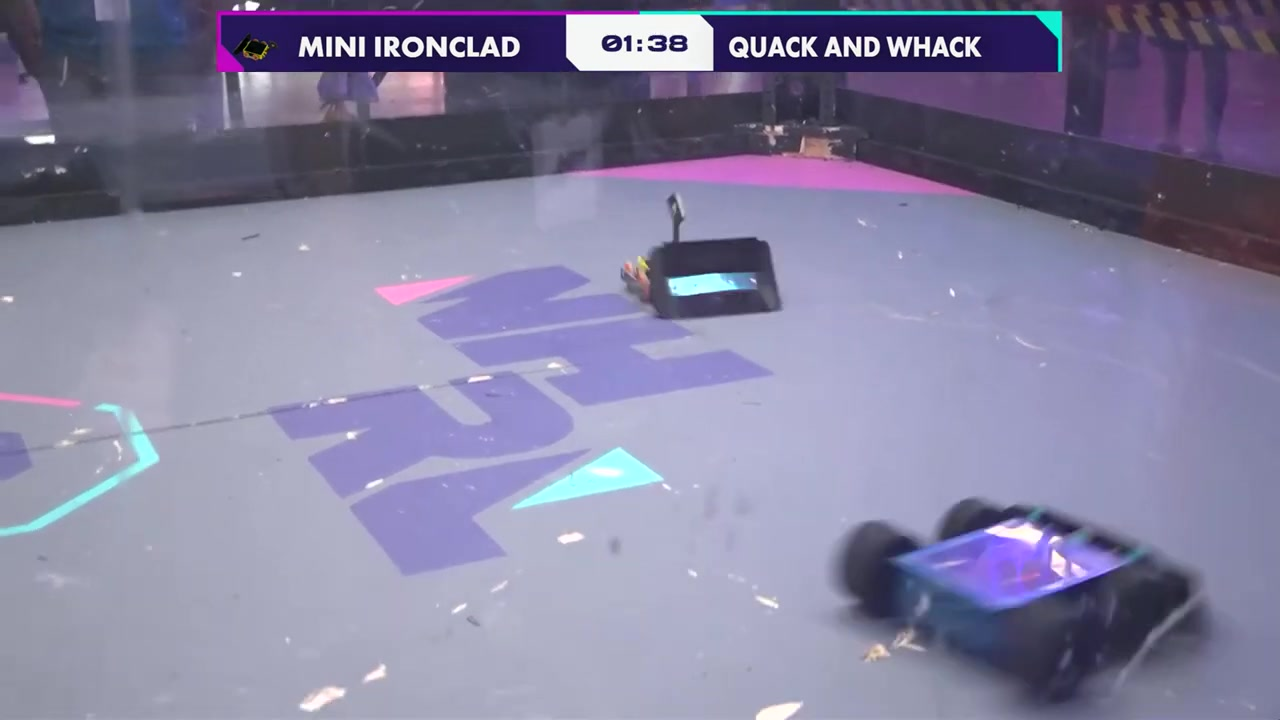combatbot: (843, 496, 1205, 707), (619, 238, 783, 321)
